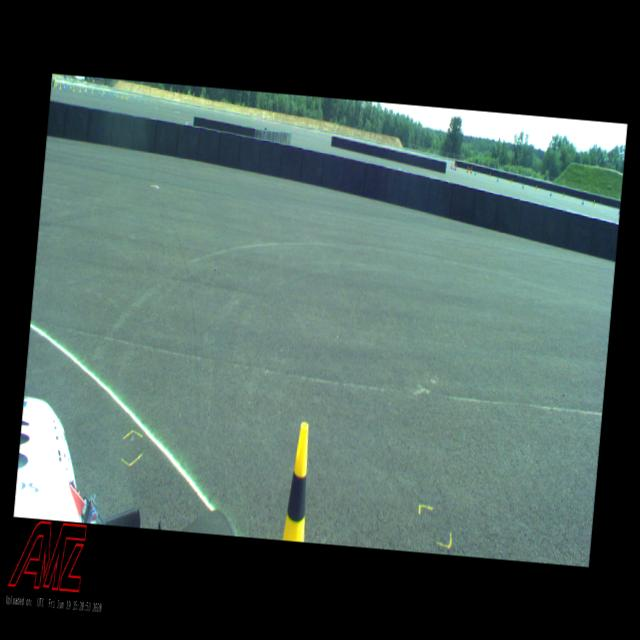yellow_cone: (282, 421, 314, 542)
